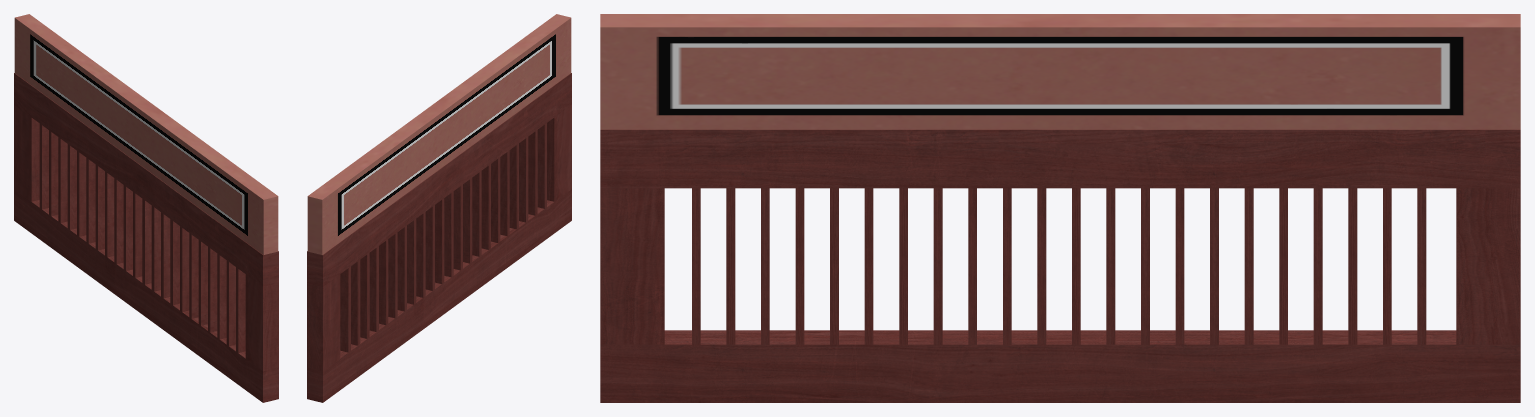
Rendered from SM_Wall01E.fbx.
The picture shows the model from 3 angles, left to right: view 1: azimuth 30°, elevation 25°; view 2: azimuth 150°, elevation 25°; view 3: azimuth 270°, elevation 25°; orthographic projection. The views are drawn at different scales.
Visible parts, largest first — view 1: SM_Wall01E; view 2: SM_Wall01E; view 3: SM_Wall01E.
Part boxes in pixels (left/top/right/bottom): SM_Wall01E: left=14, top=14, right=278, bottom=402; SM_Wall01E: left=307, top=14, right=571, bottom=402; SM_Wall01E: left=600, top=14, right=1520, bottom=402.
Size of the model in its own units: 8.99 by 245 by 110.
